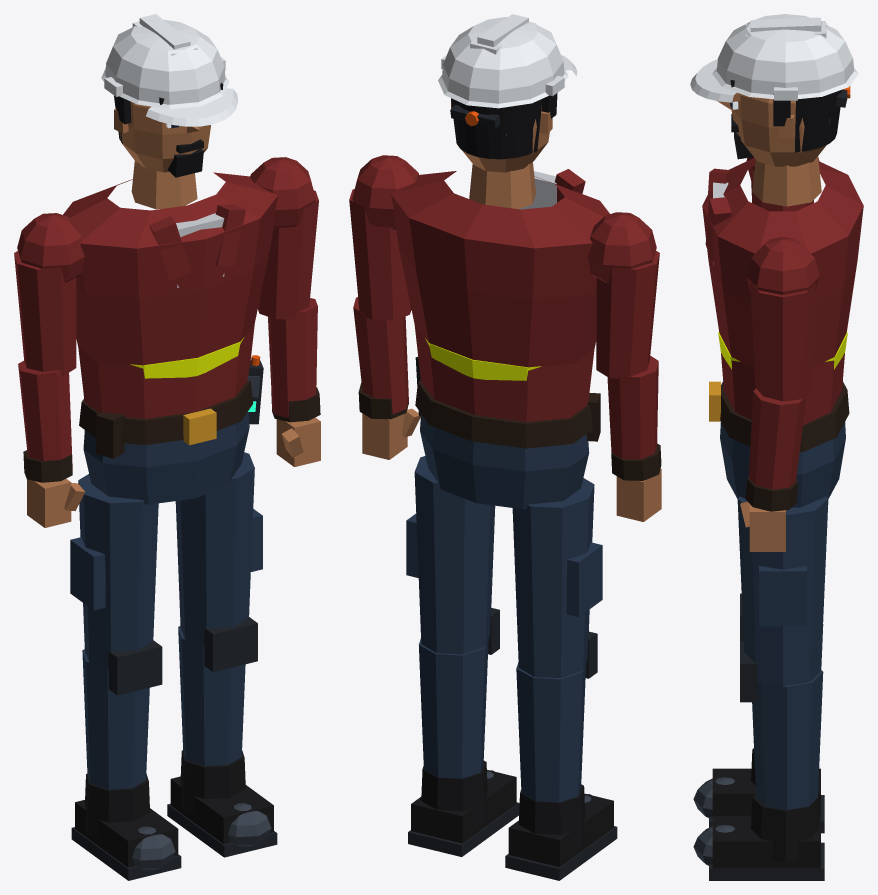
The model's file is operator_male_psx_rig.glb.
3 renders of one model, left to right at view 1: azimuth 30°, elevation 25°; view 2: azimuth 150°, elevation 25°; view 3: azimuth 270°, elevation 25°, orthographic.
Visible parts, largest first — view 1: Torso_Jacket_Male, Leg_Upper_R, Leg_Upper_L, Pelvis_Hips_Male, HardHat_Contoured_Shell, Leg_Lower_R, Leg_Lower_L, Arm_Upper_L, Arm_Upper_R, Arm_Lower_R, Arm_Lower_L, Shoulder_Cap_L (+29 smaller); view 2: Torso_Jacket_Male, Leg_Upper_R, Leg_Upper_L, Pelvis_Hips_Male, Leg_Lower_R, Leg_Lower_L, HardHat_Contoured_Shell, Arm_Upper_L, Utility_Belt_Strap, Arm_Upper_R, Arm_Lower_R, Arm_Lower_L (+20 smaller); view 3: Torso_Jacket_Male, Leg_Upper_R, HardHat_Contoured_Shell, Leg_Lower_R, Arm_Upper_R, Arm_Lower_R, Pelvis_Hips_Male, Boot_Vamp_R, Head_Cranium_Base, Shoulder_Cap_R, Cargo_Pocket_R, Boot_Ankle_Shaft_R (+17 smaller).
Part boxes in pixels (x1=…): Torso_Jacket_Male: x1=63, y1=172, x2=277, y2=418; Leg_Upper_R: x1=175, y1=452, x2=254, y2=645; Leg_Upper_L: x1=78, y1=474, x2=158, y2=669; Pelvis_Hips_Male: x1=83, y1=412, x2=249, y2=504; HardHat_Contoured_Shell: x1=101, y1=19, x2=229, y2=109; Leg_Lower_R: x1=178, y1=626, x2=245, y2=766; Leg_Lower_L: x1=82, y1=649, x2=149, y2=789; Arm_Upper_L: x1=14, y1=251, x2=76, y2=375; Arm_Upper_R: x1=258, y1=190, x2=318, y2=319; Arm_Lower_R: x1=268, y1=298, x2=317, y2=417; Arm_Lower_L: x1=18, y1=361, x2=72, y2=469; Shoulder_Cap_L: x1=17, y1=213, x2=84, y2=282; Torso_Jacket_Male: x1=391, y1=171, x2=609, y2=421; Leg_Upper_R: x1=414, y1=456, x2=495, y2=654; Leg_Upper_L: x1=512, y1=478, x2=594, y2=677; Pelvis_Hips_Male: x1=420, y1=414, x2=589, y2=509; Leg_Lower_R: x1=419, y1=638, x2=488, y2=778; Leg_Lower_L: x1=516, y1=662, x2=586, y2=802; HardHat_Contoured_Shell: x1=438, y1=17, x2=568, y2=108; Arm_Upper_L: x1=596, y1=251, x2=659, y2=378; Utility_Belt_Strap: x1=415, y1=380, x2=592, y2=448; Arm_Upper_R: x1=349, y1=189, x2=411, y2=320; Arm_Lower_R: x1=353, y1=297, x2=408, y2=414; Arm_Lower_L: x1=607, y1=356, x2=658, y2=459; Torso_Jacket_Male: x1=702, y1=158, x2=863, y2=424; Leg_Upper_R: x1=737, y1=496, x2=828, y2=686; HardHat_Contoured_Shell: x1=712, y1=14, x2=858, y2=99; Leg_Lower_R: x1=752, y1=670, x2=823, y2=809; Arm_Upper_R: x1=750, y1=283, x2=815, y2=401; Arm_Lower_R: x1=748, y1=388, x2=806, y2=489; Pelvis_Hips_Male: x1=720, y1=422, x2=845, y2=507; Boot_Vamp_R: x1=712, y1=816, x2=820, y2=868; Head_Cranium_Base: x1=731, y1=94, x2=829, y2=166; Shoulder_Cap_R: x1=746, y1=237, x2=819, y2=294; Cargo_Pocket_R: x1=759, y1=566, x2=806, y2=626; Boot_Ankle_Shaft_R: x1=751, y1=794, x2=819, y2=861.
Bounding box in the file's own units: 0.6985 × 1.8 × 0.3449.
